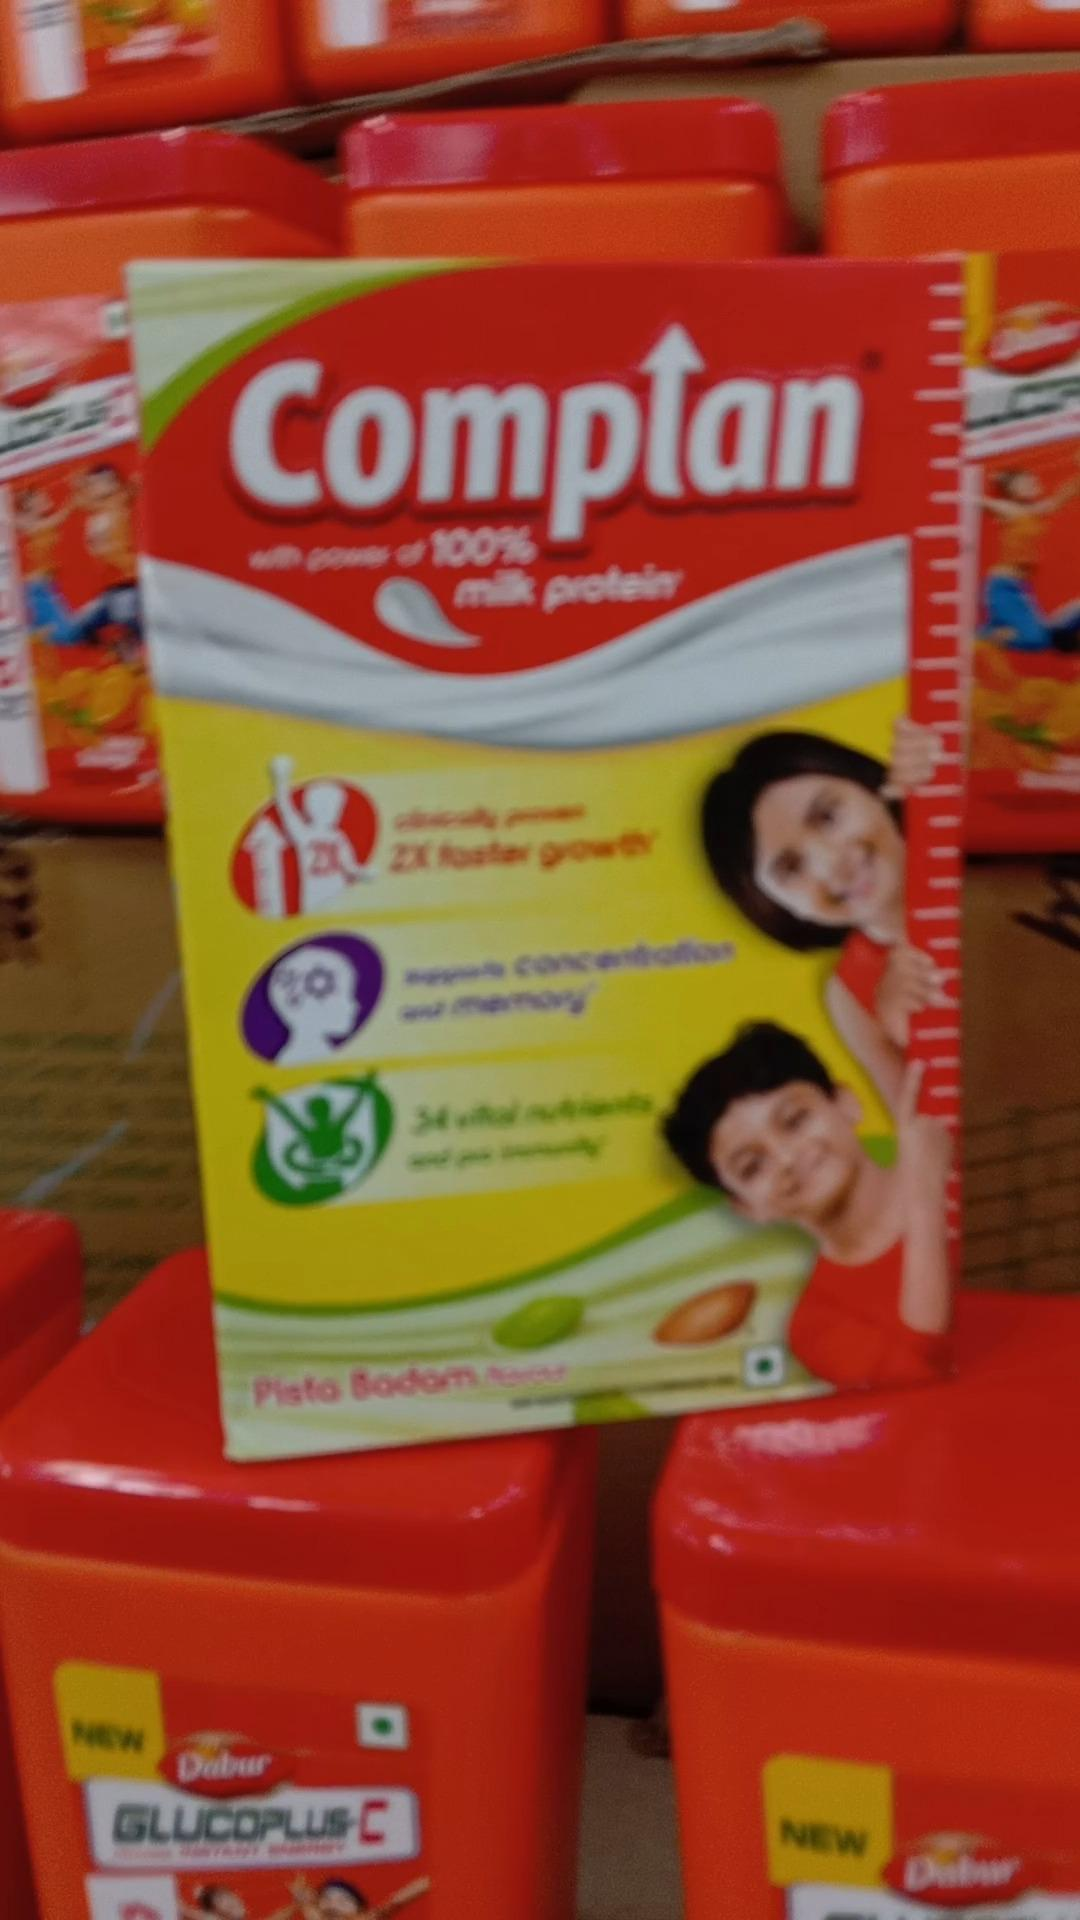COMPLAN_PISTA_BADAM_500_GMS_PACK: (160, 262, 953, 1375)
